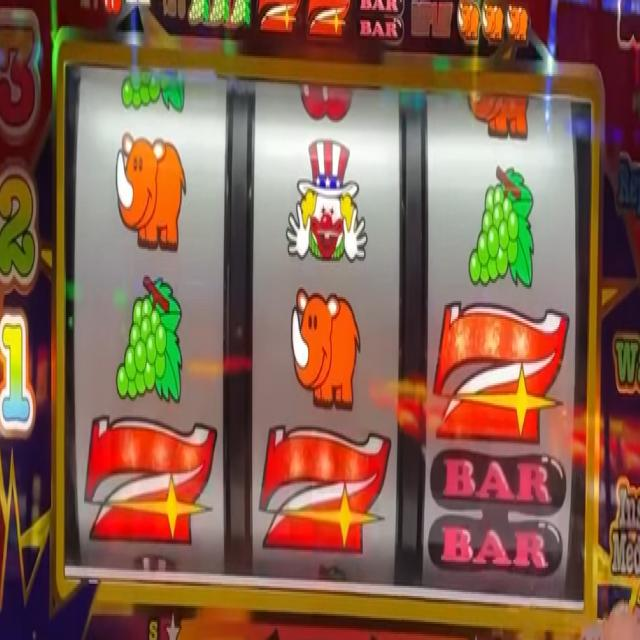bar: (429, 447, 566, 582), (356, 0, 402, 45)
cherry: (298, 79, 355, 117)
clown: (284, 136, 368, 269)
display: (64, 60, 586, 609)
elephant: (116, 128, 186, 252), (290, 286, 361, 407), (467, 86, 531, 142), (506, 1, 530, 40), (458, 2, 482, 40), (482, 5, 502, 42)
grape: (117, 273, 183, 409), (469, 162, 535, 293), (120, 67, 186, 114), (231, 0, 252, 28), (188, 0, 210, 23), (211, 0, 227, 25)
z: (434, 300, 568, 451), (84, 410, 216, 545), (261, 421, 388, 556), (306, 0, 348, 35), (256, 0, 298, 33)
